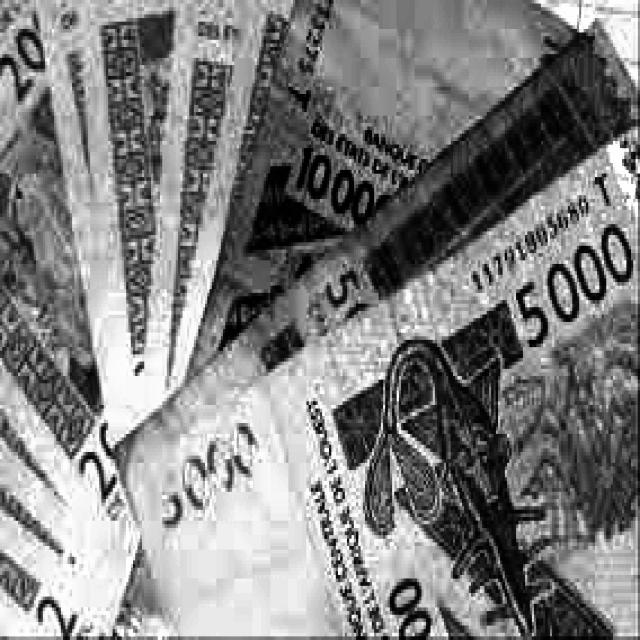junni: (121, 36, 640, 636)
niaar junni: (185, 0, 568, 388)
nient teemeer: (0, 0, 286, 635)
